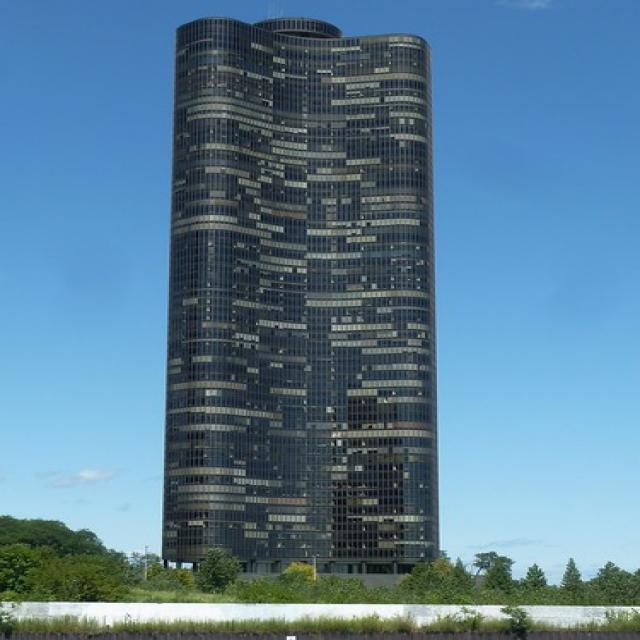Normal_building: (160, 9, 454, 595)
